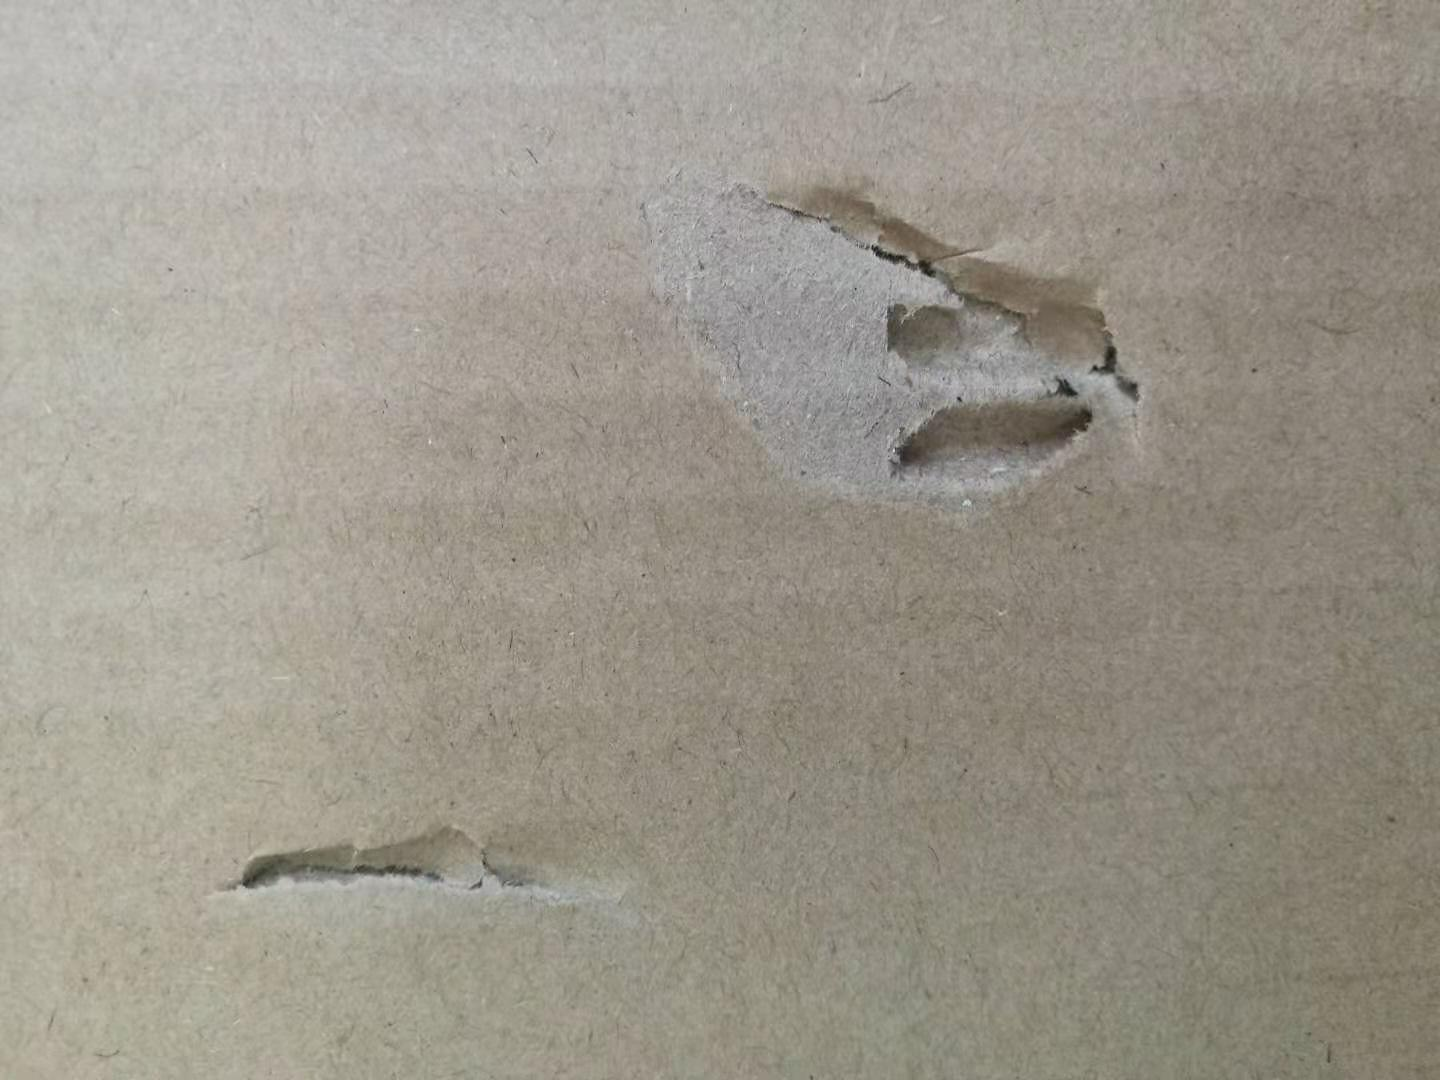defect: (579, 117, 1231, 540), (180, 782, 683, 978)
